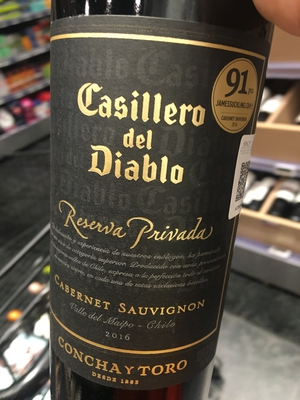casillero del diablo reserva privada cabernet sauvignon: (45, 4, 273, 400)
